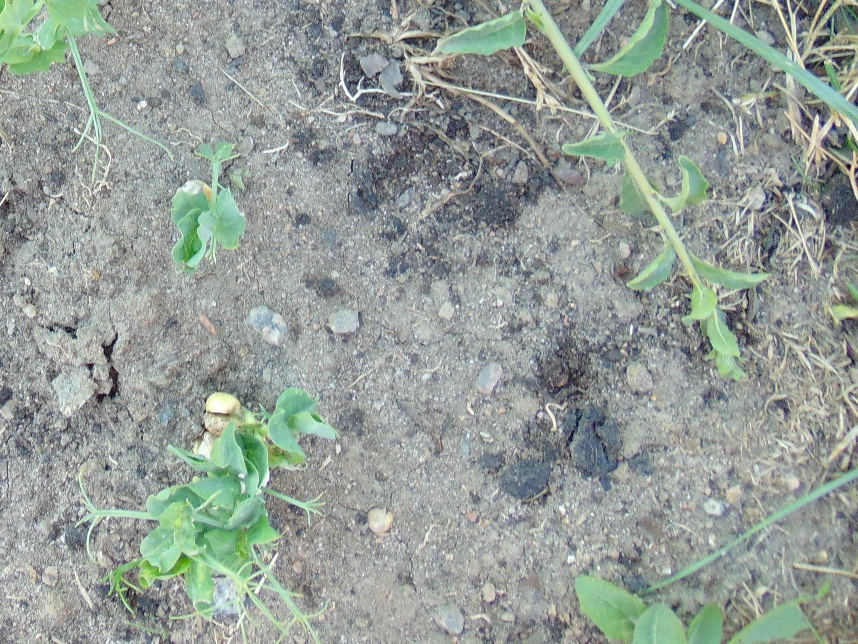crop: (76, 395, 333, 635), (1, 1, 124, 151), (164, 137, 247, 273)
weed: (624, 236, 779, 375), (430, 1, 671, 82), (577, 564, 804, 644), (560, 132, 708, 206)
